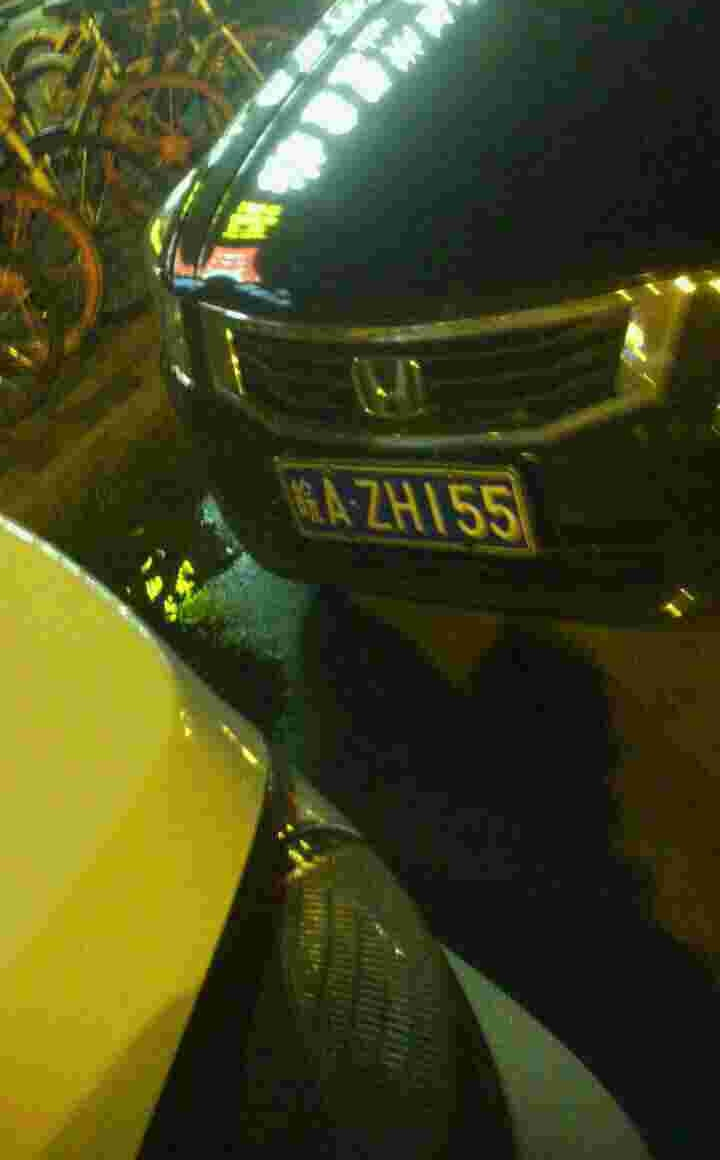plate: (269, 457, 538, 556)
